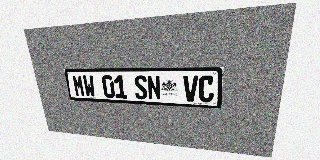0: (101, 75, 115, 98)
1: (113, 75, 127, 99)
C: (198, 75, 215, 103)
M: (72, 75, 85, 97)
N: (147, 75, 161, 100)
S: (134, 75, 148, 100)
V: (183, 75, 198, 102)
W: (82, 75, 96, 97)
